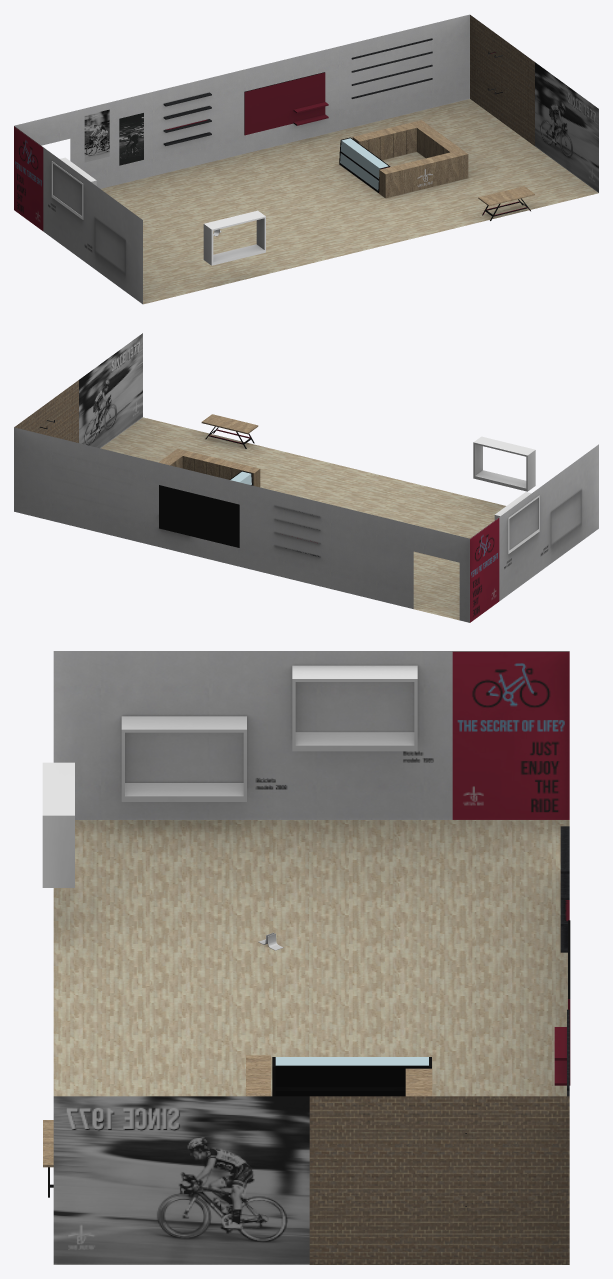
Rendered from showroom.FBX.
The picture shows the model from 3 angles, top to bottom: view 1: azimuth 30°, elevation 25°; view 2: azimuth 150°, elevation 25°; view 3: azimuth 270°, elevation 25°; orthographic projection. The views are drawn at different scales.
Visible parts, largest first — view 1: PisoShowroom, Pared2, Pared3, Pared1, Cuadro1, MuebleCompra, EstanteSillines, Cuadro4, EstanteBici3, Vidrio, Cuadro3, Cuadro2 (+4 smaller); view 2: Pared2, PisoShowroom, Pared3, Cuadro1, EstanteSillines, Cuadro4, Pared1, EstanteBici3, MuebleCompra, Mesa, EstanteBici1; view 3: PisoShowroom, Pared3, Pared1, Cuadro1, Cuadro4, EstanteBici1, EstanteBici2, EstanteBici3, Puerta1, MuebleCompra, Vidrio, EstantesManubrios (+1 smaller).
Boxes of the visible parts, x1,y1,x2,y2 form: PisoShowroom: [101, 99, 598, 304]; Pared2: [14, 14, 469, 188]; Pared3: [43, 147, 142, 304]; Pared1: [470, 15, 534, 145]; Cuadro1: [535, 62, 598, 192]; MuebleCompra: [352, 120, 468, 198]; EstanteSillines: [244, 72, 328, 135]; Cuadro4: [14, 126, 43, 230]; EstanteBici3: [203, 210, 265, 265]; Vidrio: [340, 138, 388, 190]; Cuadro3: [84, 109, 109, 162]; Cuadro2: [119, 113, 143, 165]; Pared2: [14, 427, 469, 622]; PisoShowroom: [101, 417, 505, 620]; Pared3: [499, 444, 598, 600]; Cuadro1: [79, 333, 142, 448]; EstanteSillines: [159, 485, 239, 547]; Cuadro4: [470, 517, 499, 622]; Pared1: [14, 380, 78, 442]; EstanteBici3: [473, 436, 535, 491]; MuebleCompra: [159, 448, 260, 487]; Mesa: [201, 414, 258, 434]; EstanteBici1: [494, 492, 539, 554]; PisoShowroom: [53, 820, 569, 1096]; Pared3: [53, 651, 452, 819]; Pared1: [309, 1096, 569, 1264]; Cuadro1: [53, 1096, 309, 1264]; Cuadro4: [452, 651, 569, 819]; EstanteBici1: [292, 665, 417, 751]; EstanteBici2: [121, 716, 246, 801]; EstanteBici3: [42, 762, 74, 887]; Puerta1: [275, 1065, 428, 1096]; MuebleCompra: [246, 1055, 432, 1096]; Vidrio: [275, 1057, 428, 1065]; EstantesManubrios: [560, 826, 569, 952].
Size of the model in its own units: 19.82 by 3.5 by 9.92.
2 materials, 1 textured.
